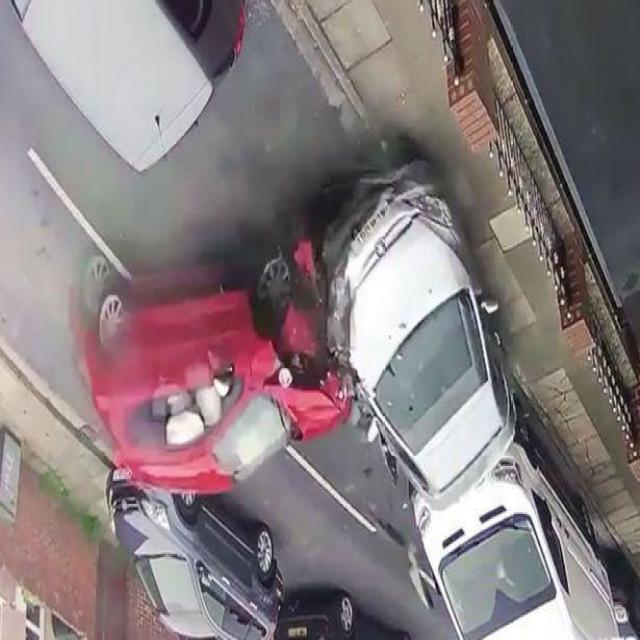moderate: (80, 140, 523, 512)
